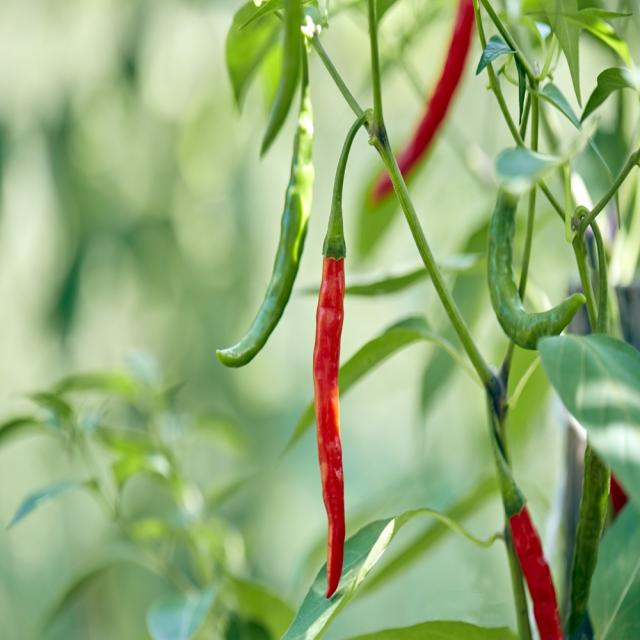Ripe: (314, 257, 345, 597), (510, 506, 564, 640)
Unripe: (216, 52, 314, 366), (488, 189, 585, 350), (569, 444, 610, 632)
